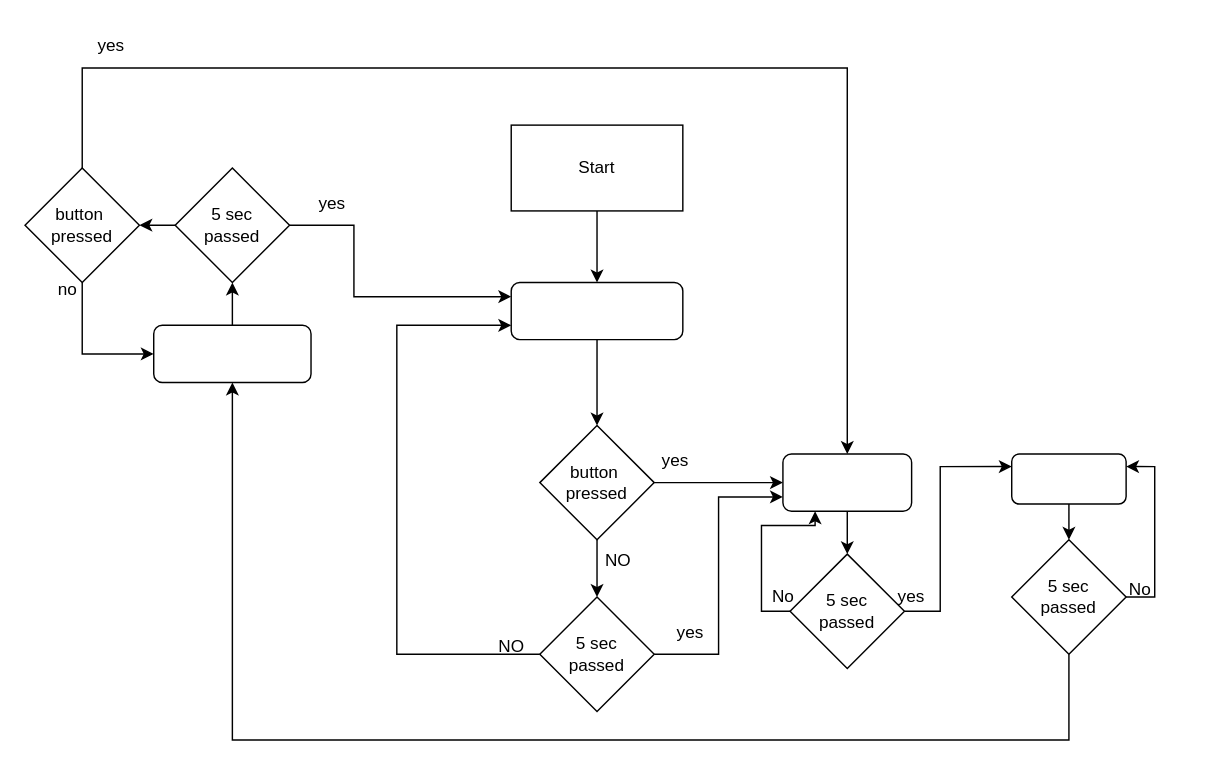
Image size: 1208x776. Some labels were removed from this diagram. Each missing label, with the centre of its shape:
cars moves: pixel 596 310
cars stop: pixel 1068 478
cars will move: pixel 231 353
cars will stop: pixel 846 482
